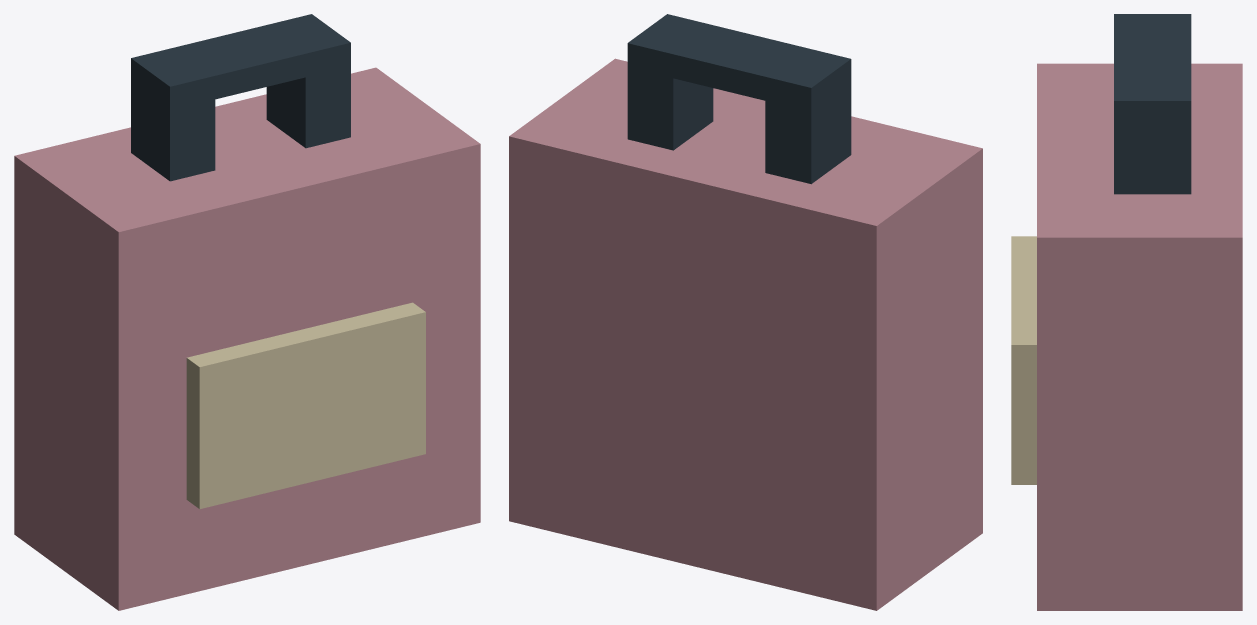
The model's file is beauty-18.glb.
The picture shows the model from 3 angles, left to right: view 1: azimuth 30°, elevation 25°; view 2: azimuth 150°, elevation 25°; view 3: azimuth 270°, elevation 25°; orthographic projection. The views are drawn at different scales.
Visible parts, largest first — view 1: Makeup bag; view 2: Makeup bag; view 3: Makeup bag.
Part boxes in pixels (x1,y1,x2,y2): Makeup bag: (14, 14, 480, 610); Makeup bag: (509, 14, 982, 610); Makeup bag: (1011, 14, 1242, 610).
Size of the model in its own units: 1.28 by 1.6 by 0.72.
